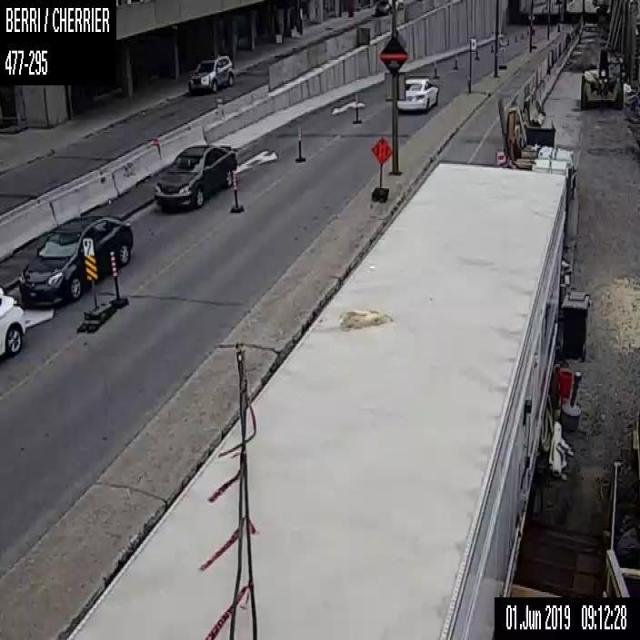construction: (369, 136, 392, 203), (110, 249, 119, 300), (231, 168, 238, 208), (297, 126, 301, 158), (355, 94, 358, 122), (475, 42, 479, 58), (433, 57, 436, 76), (453, 51, 456, 68), (489, 41, 493, 52), (520, 29, 524, 39), (513, 31, 517, 40), (506, 35, 509, 44)
vehicle: (19, 214, 132, 306), (153, 143, 235, 208), (0, 280, 24, 361), (187, 56, 233, 94), (396, 76, 438, 111)
